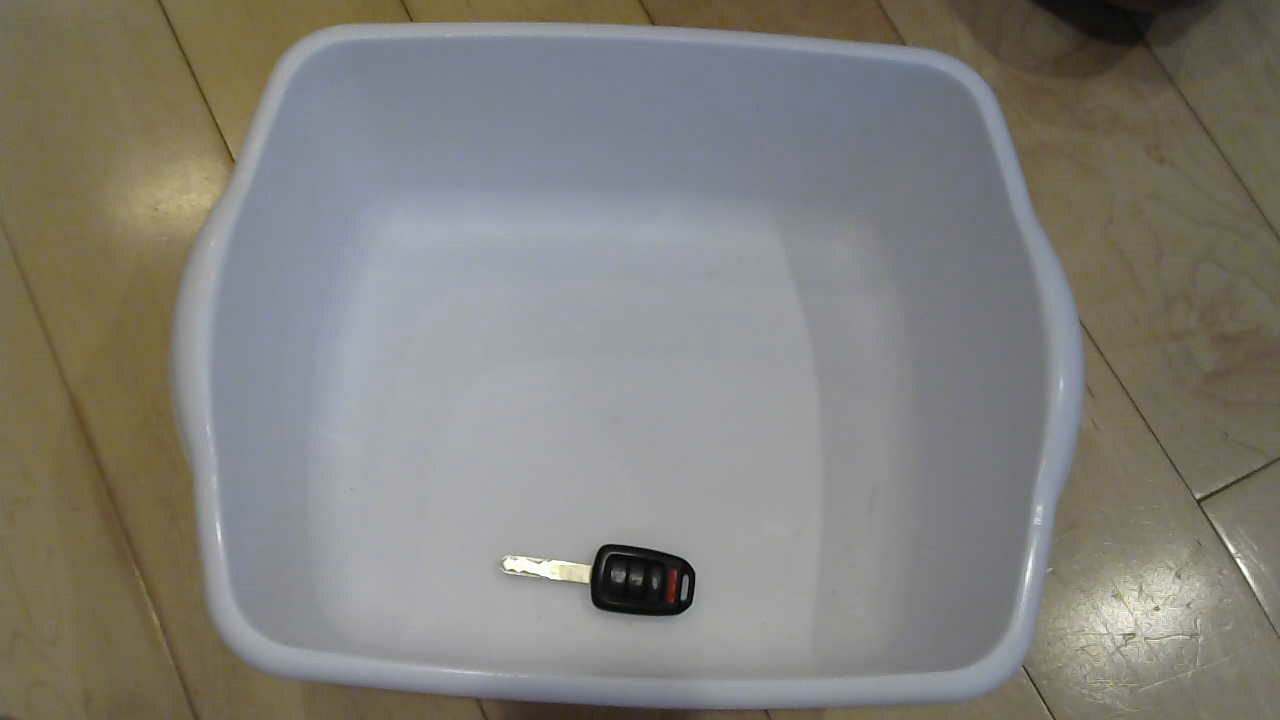key: (496, 537, 722, 638)
